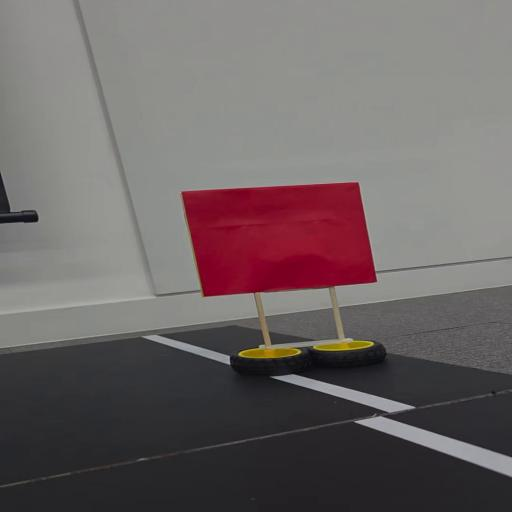Sign_A: (174, 182, 406, 382)
